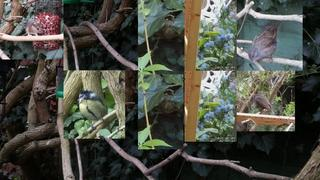blue tit: (77, 90, 107, 130)
dunnock: (248, 20, 283, 65)
mouse: (13, 20, 44, 42)
starling: (255, 91, 275, 115)
